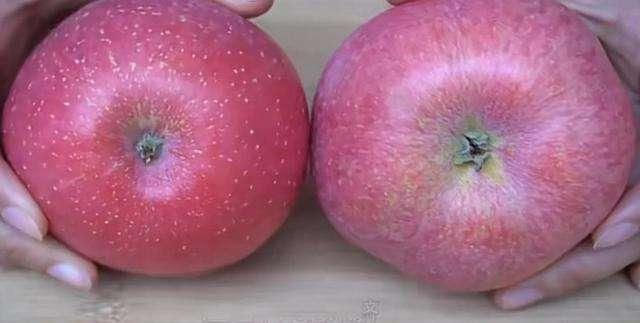apple: (306, 3, 636, 303), (3, 1, 304, 277)
